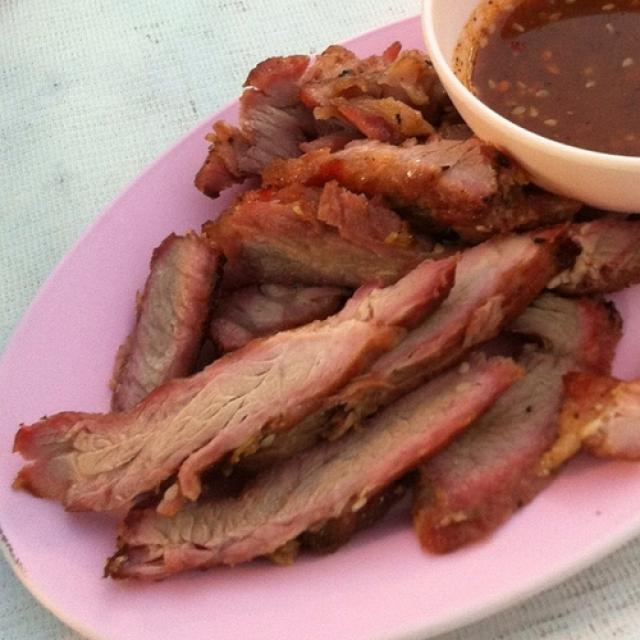猪肉菜式: (26, 28, 626, 594)
